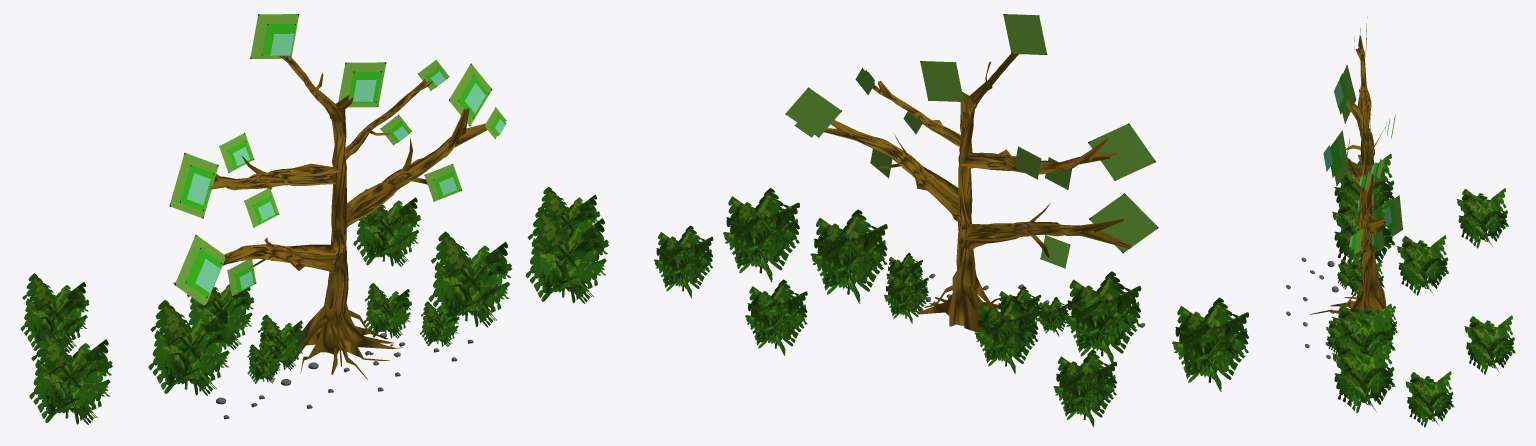
File: Enviro_Beta_3.obj
The picture shows the model from 3 angles, left to right: view 1: azimuth 30°, elevation 25°; view 2: azimuth 150°, elevation 25°; view 3: azimuth 270°, elevation 25°; orthographic projection. The views are drawn at different scales.
Parts seen in each view (by area): view 1: pCylinder2, Bush08, Bush07, Bush05, Bush06, Bush010, Bush011, pCylinder5, pCylinder3, pCylinder6, Bush09, Bush01 (+13 smaller); view 2: pCylinder2, Bush06, Bush08, Bush05, Bush07, Bush09, Bush010, Bush011, pCylinder3, Bush012, pCylinder5, pPlane16 (+12 smaller); view 3: Bush08, pCylinder2, Bush09, Bush06, Bush010, Bush011, Bush012, Bush05, Bush07, pCylinder7, pCylinder6, bush02:Bush01 (+9 smaller).
Part boxes in pixels (left/top/right/bottom): pCylinder2: left=291, top=95, right=402, bottom=379; Bush08: left=525, top=208, right=608, bottom=303; Bush07: left=29, top=329, right=112, bottom=424; Bush05: left=148, top=300, right=231, bottom=395; Bush06: left=429, top=231, right=511, bottom=327; Bush010: left=20, top=273, right=89, bottom=352; Bush011: left=353, top=189, right=420, bottom=266; pCylinder5: left=346, top=107, right=487, bottom=227; pCylinder3: left=173, top=237, right=338, bottom=284; pCylinder6: left=188, top=153, right=340, bottom=190; Bush09: left=187, top=284, right=254, bottom=350; Bush01: left=363, top=283, right=411, bottom=338; pCylinder2: left=917, top=92, right=999, bottom=332; Bush06: left=810, top=209, right=887, bottom=303; Bush08: left=723, top=188, right=799, bottom=282; Bush05: left=1064, top=271, right=1141, bottom=363; Bush07: left=1172, top=297, right=1248, bottom=391; Bush09: left=974, top=296, right=1038, bottom=373; Bush010: left=1053, top=349, right=1116, bottom=427; Bush011: left=745, top=279, right=807, bottom=355; pCylinder3: left=966, top=203, right=1131, bottom=257; Bush012: left=654, top=225, right=713, bottom=298; pCylinder5: left=814, top=112, right=964, bottom=223; pPlane16: left=1088, top=123, right=1155, bottom=180; Bush08: left=1332, top=340, right=1395, bottom=412; pCylinder2: left=1310, top=123, right=1386, bottom=314; Bush09: left=1396, top=235, right=1448, bottom=295; Bush06: left=1332, top=303, right=1395, bottom=359; Bush010: left=1456, top=188, right=1508, bottom=248; Bush011: left=1464, top=315, right=1515, bottom=374; Bush012: left=1405, top=371, right=1454, bottom=427; Bush05: left=1332, top=198, right=1395, bottom=263; Bush07: left=1334, top=153, right=1394, bottom=213; pCylinder7: left=1355, top=35, right=1371, bottom=127; pCylinder6: left=1346, top=83, right=1384, bottom=185; bush02:Bush01: left=1347, top=260, right=1384, bottom=297.
Bounding box in the file's own units: 242 × 139 × 104.
6 materials, 5 textured.
